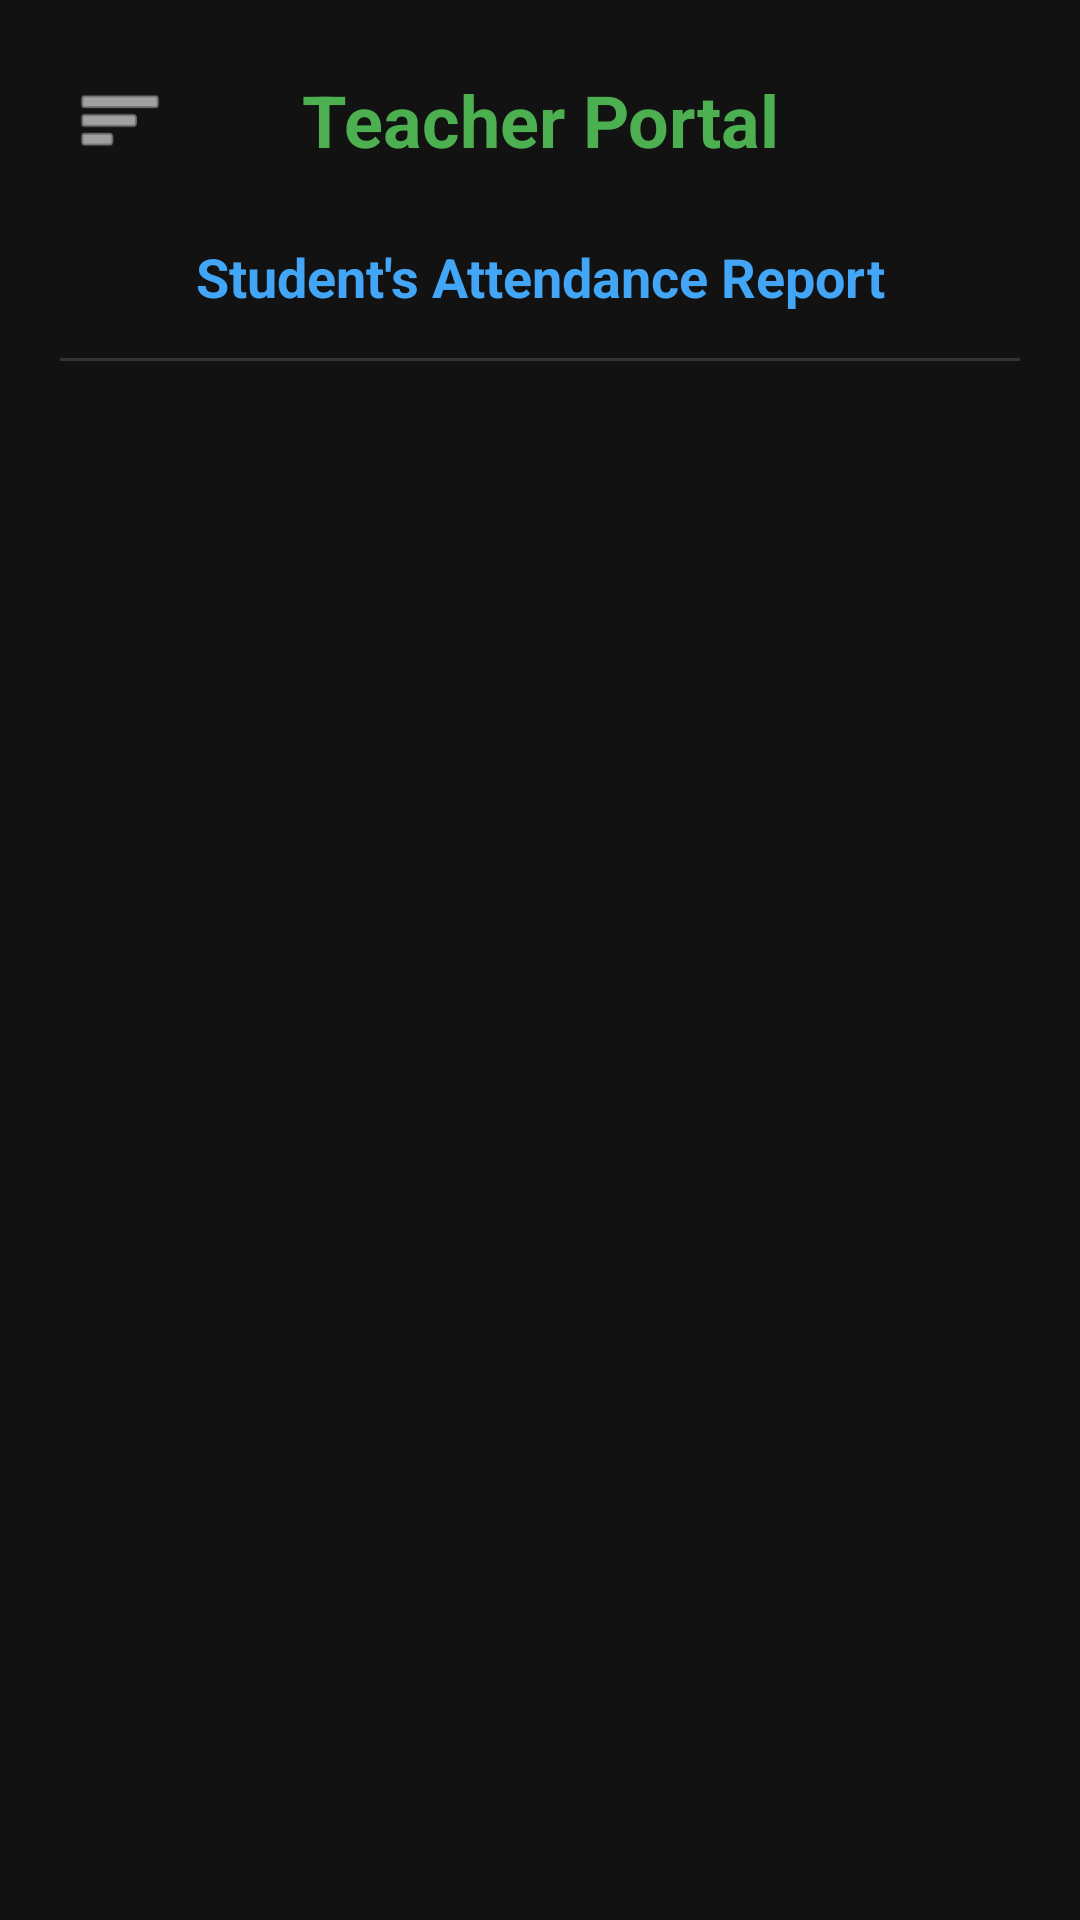

Icons on this 1080x1920 Android screen, each with the point to tap as [x,y]:
sort by size: [120,120]
